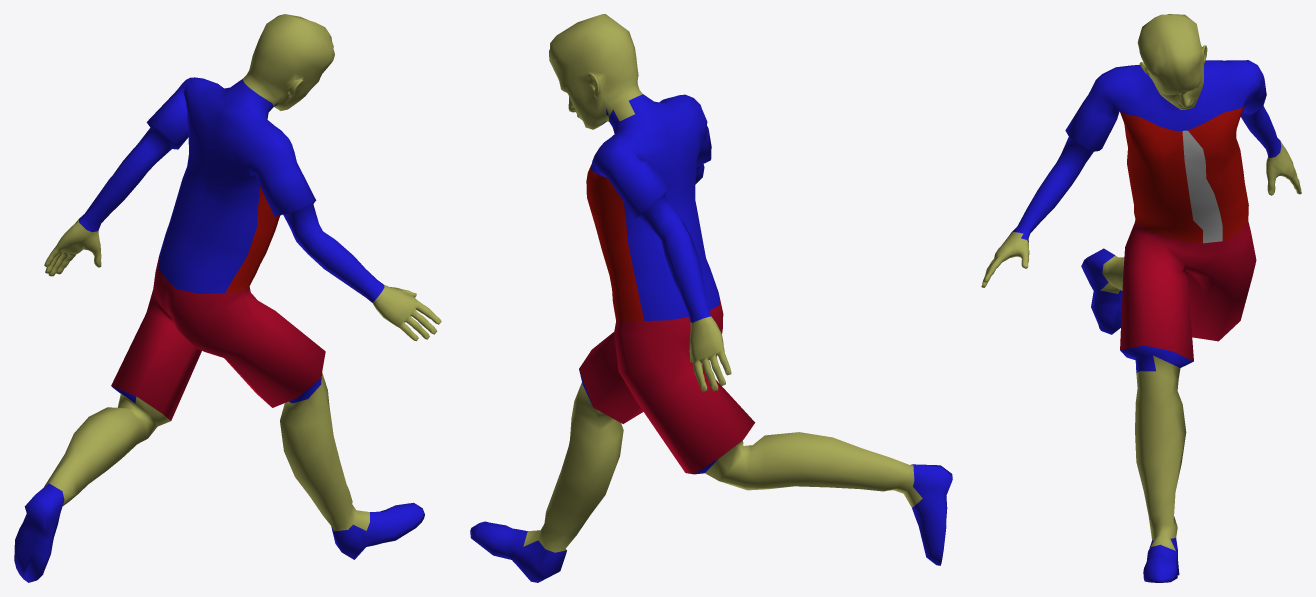
The model's file is player_000027.obj.
The picture shows the model from 3 angles, left to right: view 1: azimuth 30°, elevation 25°; view 2: azimuth 150°, elevation 25°; view 3: azimuth 270°, elevation 25°; orthographic projection. The views are drawn at different scales.
Visible parts, largest first — view 1: soccerplayer_mesh; view 2: soccerplayer_mesh; view 3: soccerplayer_mesh.
Part boxes in pixels (x1,y1,x2,y2): soccerplayer_mesh: (14, 14, 441, 582); soccerplayer_mesh: (470, 14, 952, 582); soccerplayer_mesh: (981, 14, 1301, 582).
Size of the model in its own units: 3.98 by 4.86 by 2.64.
